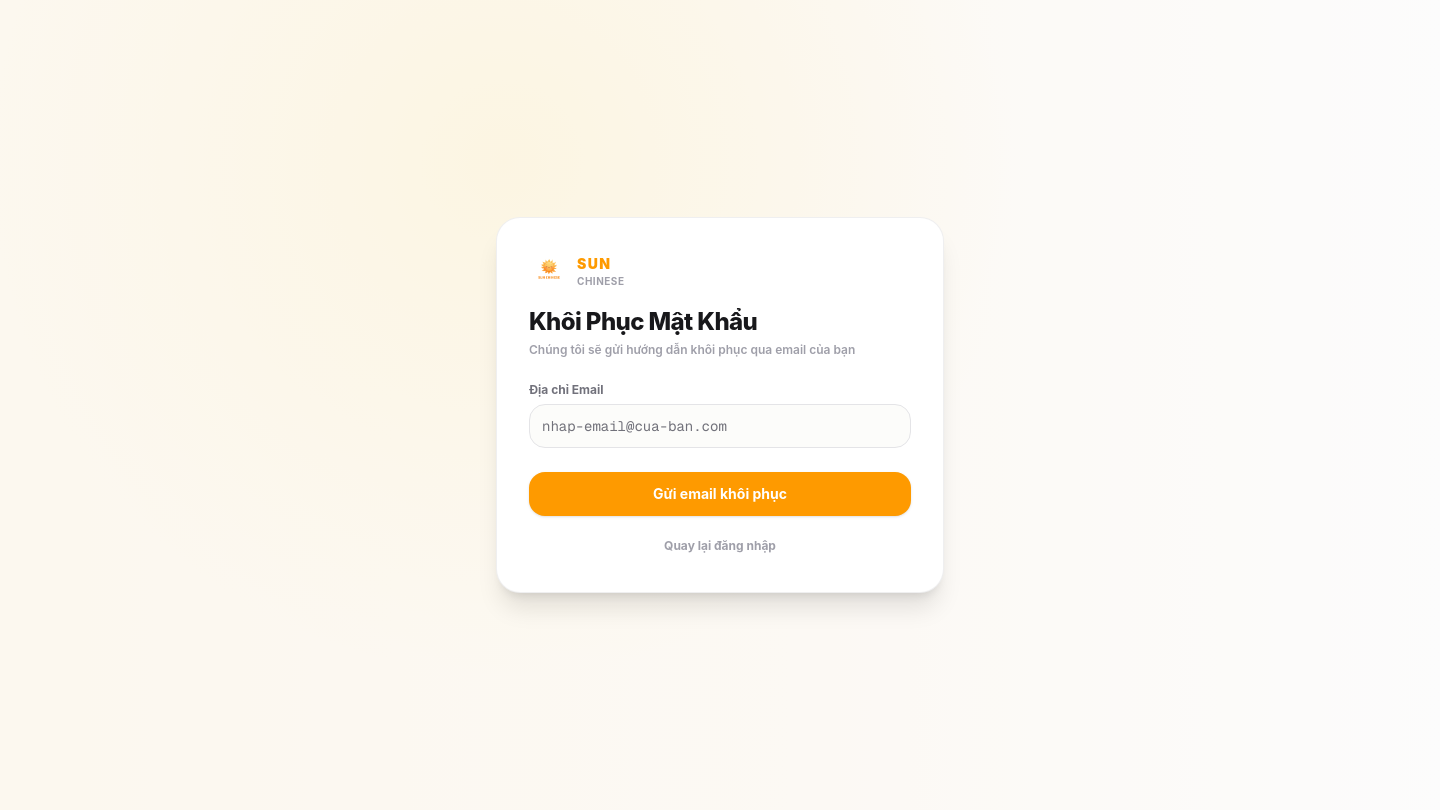
Test: ForgotPasswordPage › sends email and shows success
This screenshot has width=1440, height=810.
Type "an@example.com" into the field labelled "Địa chỉ Email" at (720, 426), box [529,404,911,448]
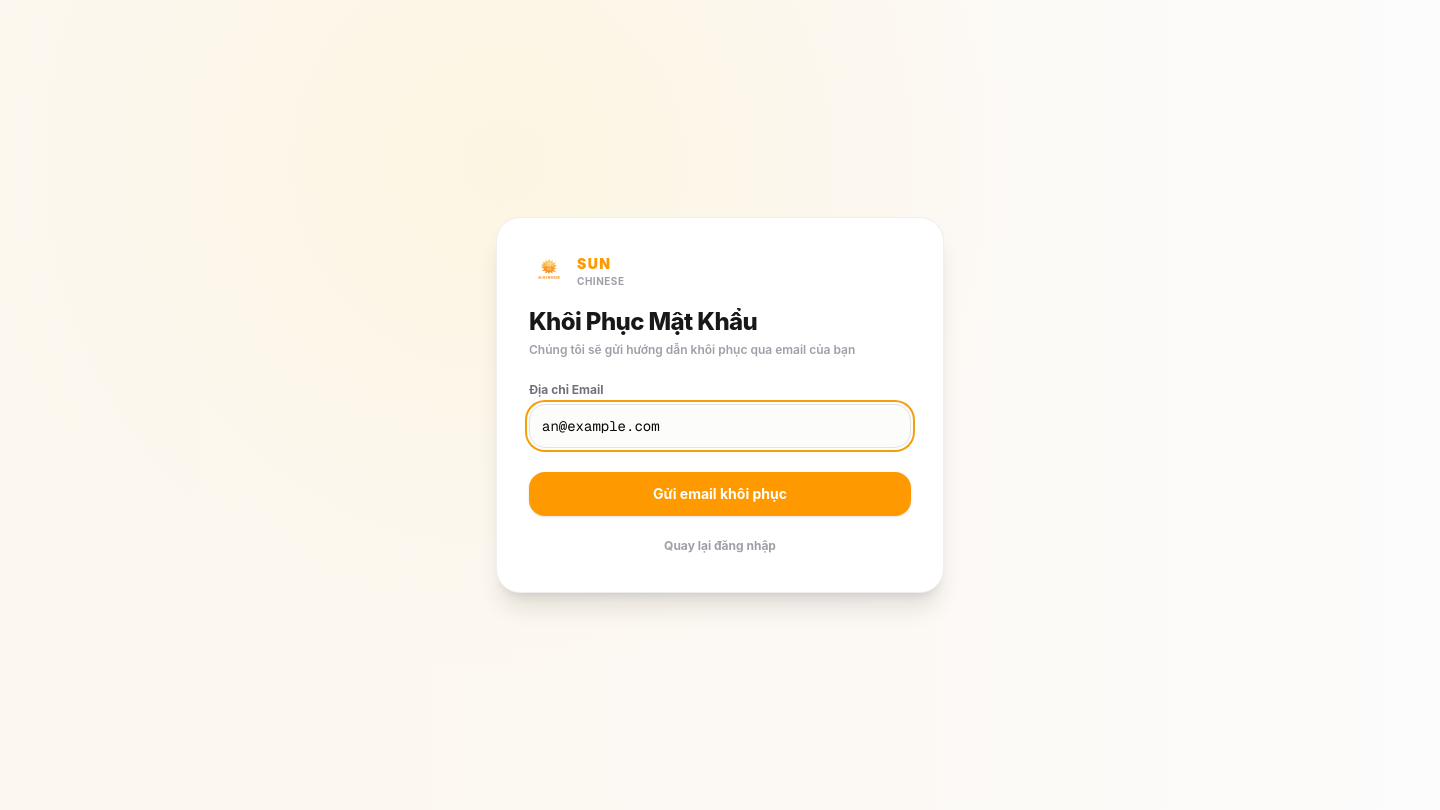
Click the button "Gửi email khôi phục" at (720, 494), box [529,472,911,516]
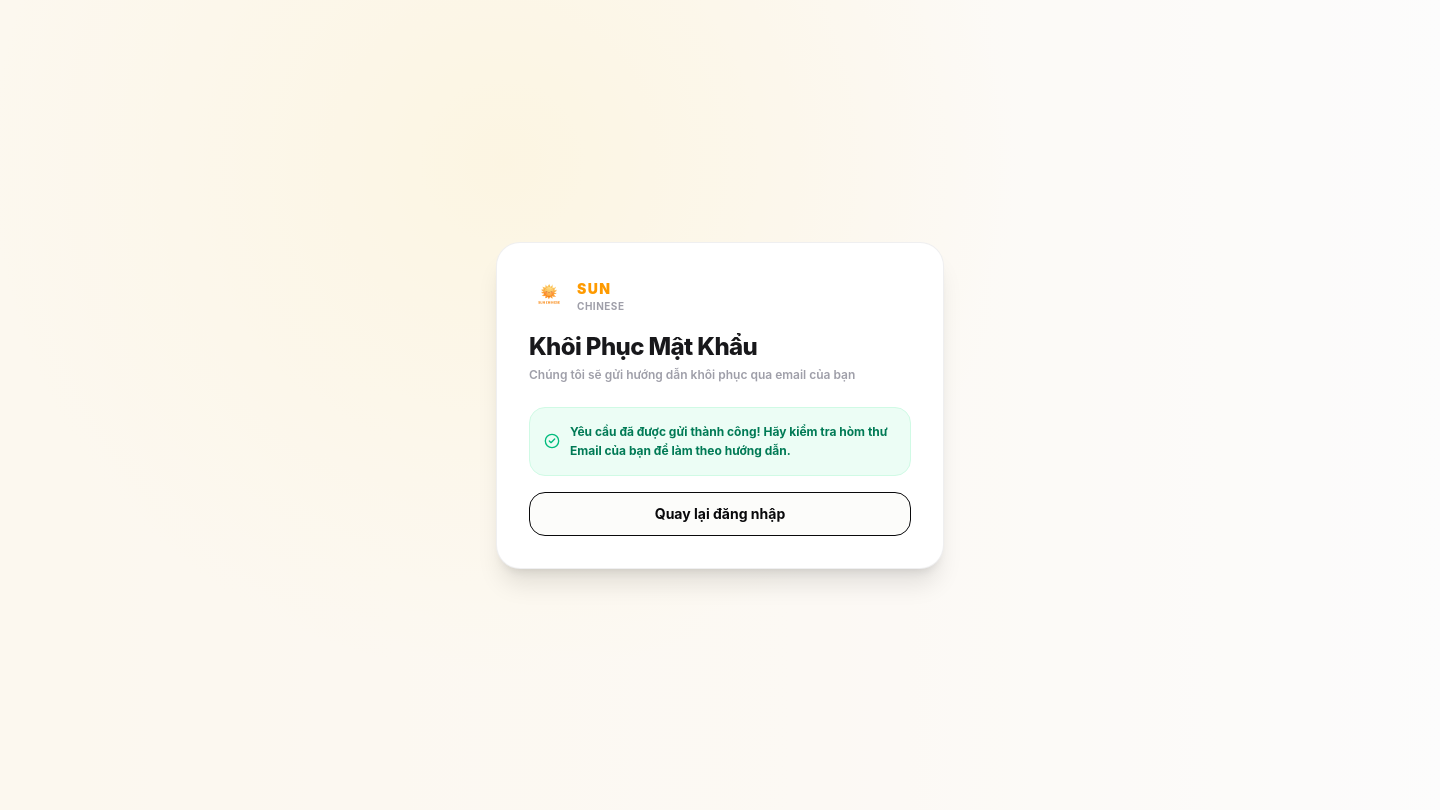
Result: the text "Yêu cầu đã được gửi thành công" is shown at [570,424,888,458]
